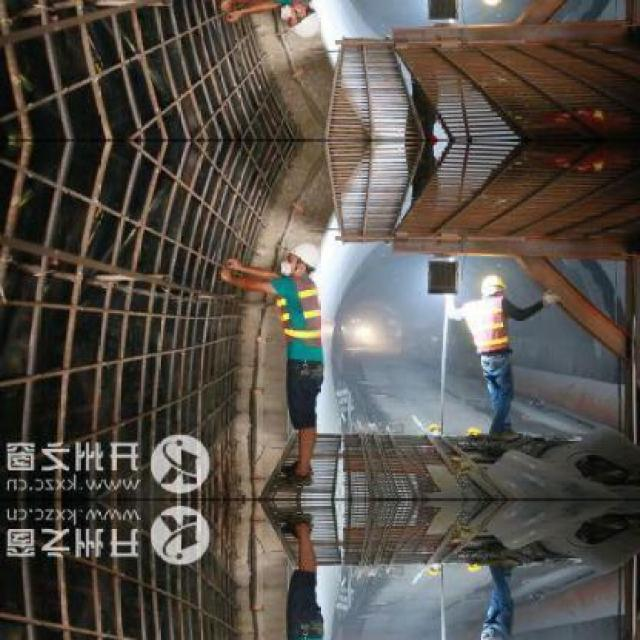Reflective-Jacket: (268, 276, 337, 369), (458, 296, 520, 361)
Safety-Helmet: (282, 236, 326, 278), (472, 267, 514, 301)
